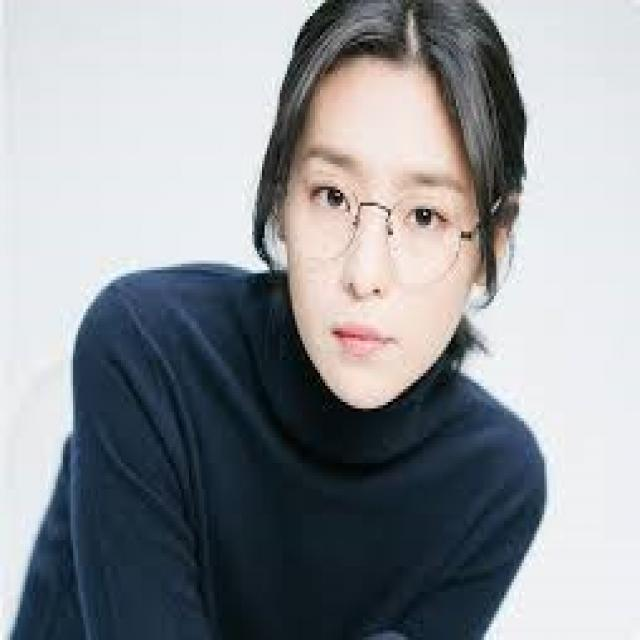Glasses: (267, 154, 517, 296)
